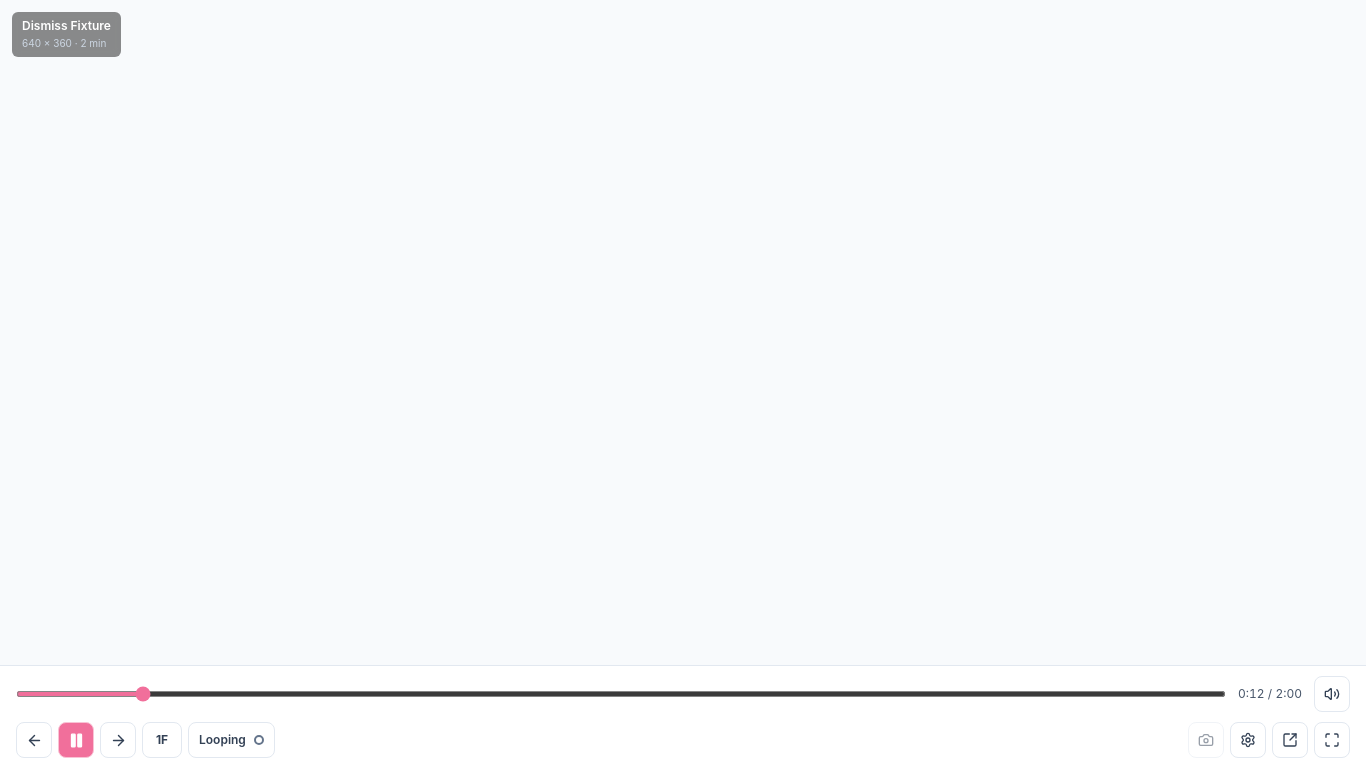
Scenario: VideoPlayerPrototype › consumes outside-menu dismissal without toggling playback
The width and height of the screenshot is (1366, 768).
Click the button named "Player settings" at (1248,740), box [1230,722,1266,758]
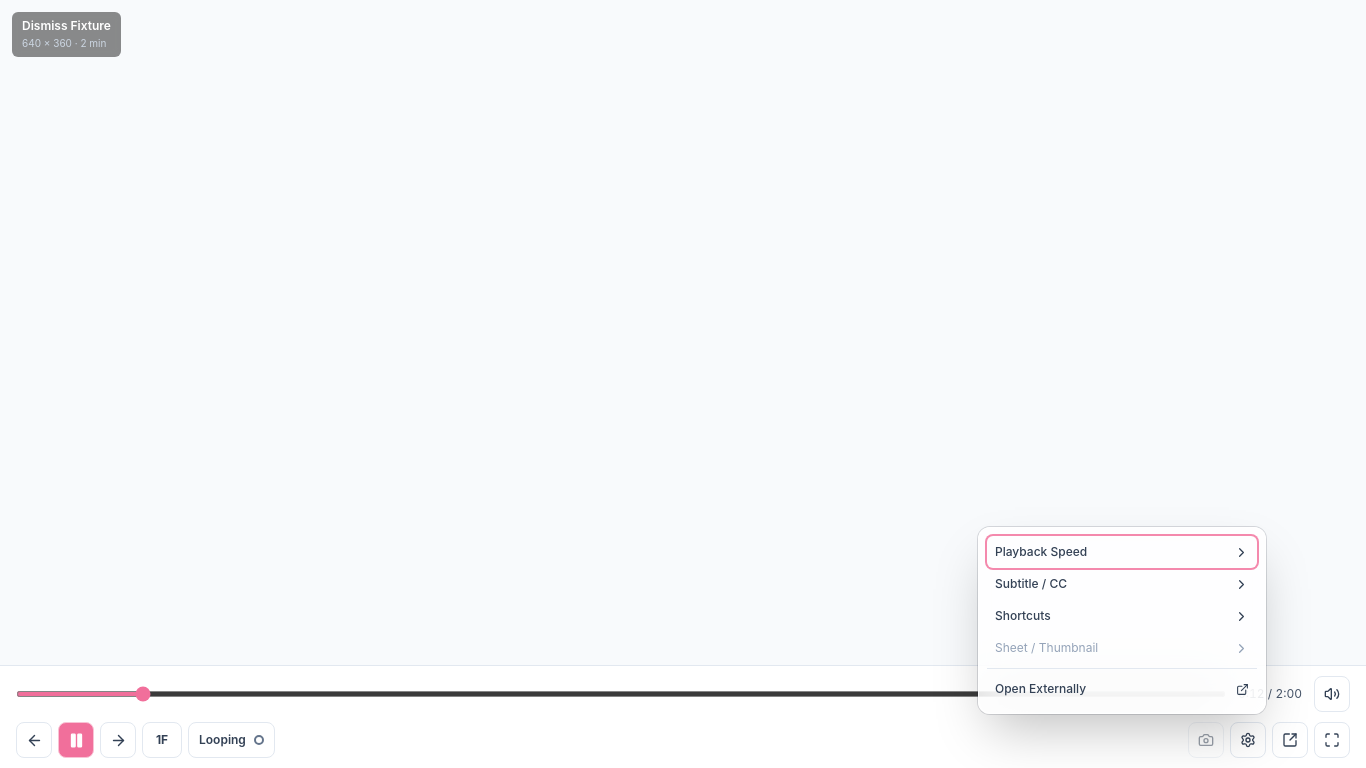
Click the element with test id "player-settings-dismiss-layer" at (683,384), box [0,0,1365,767]
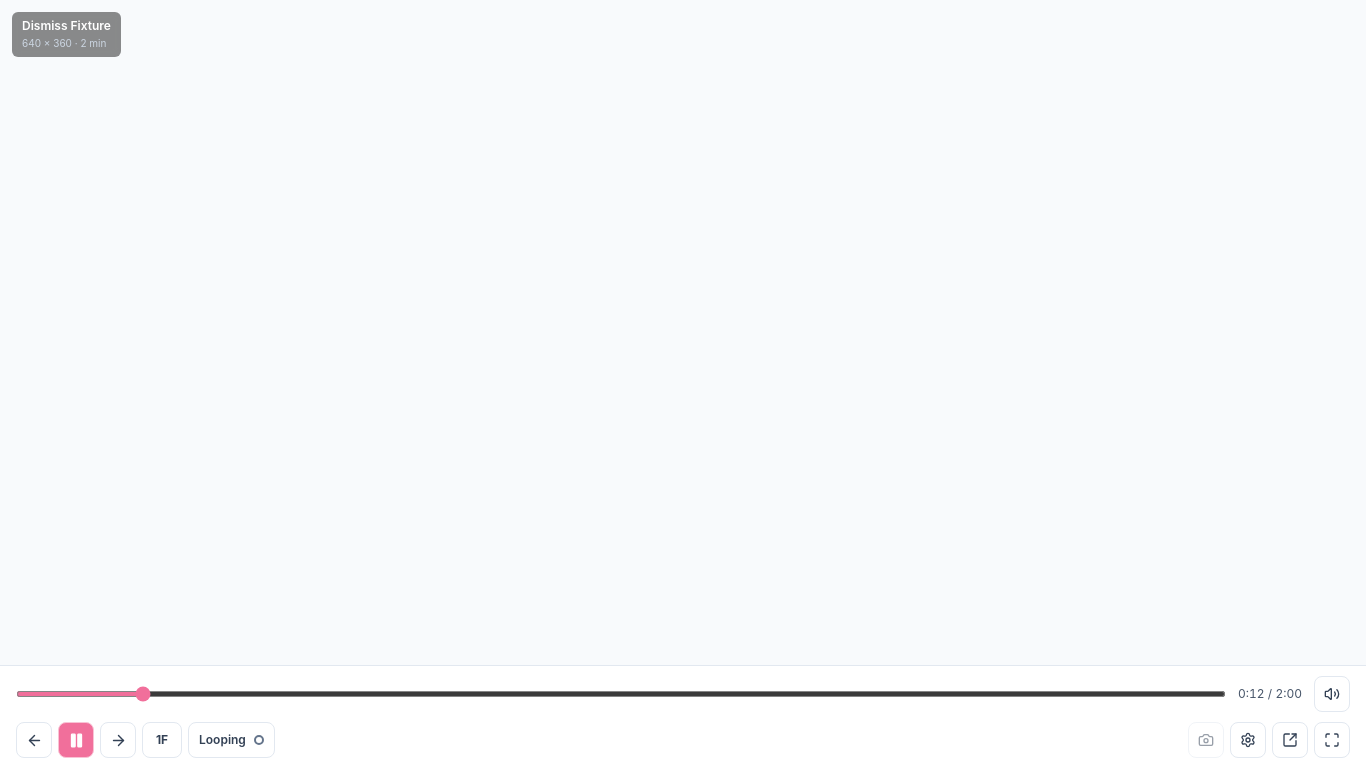
Check: the menu is gone
